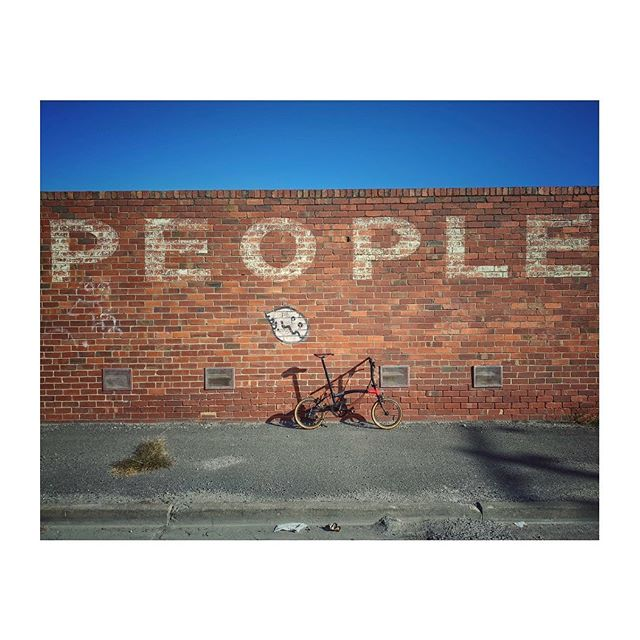bicicle: (285, 347, 406, 428)
sky: (35, 103, 595, 188)
wall: (41, 190, 593, 421)
